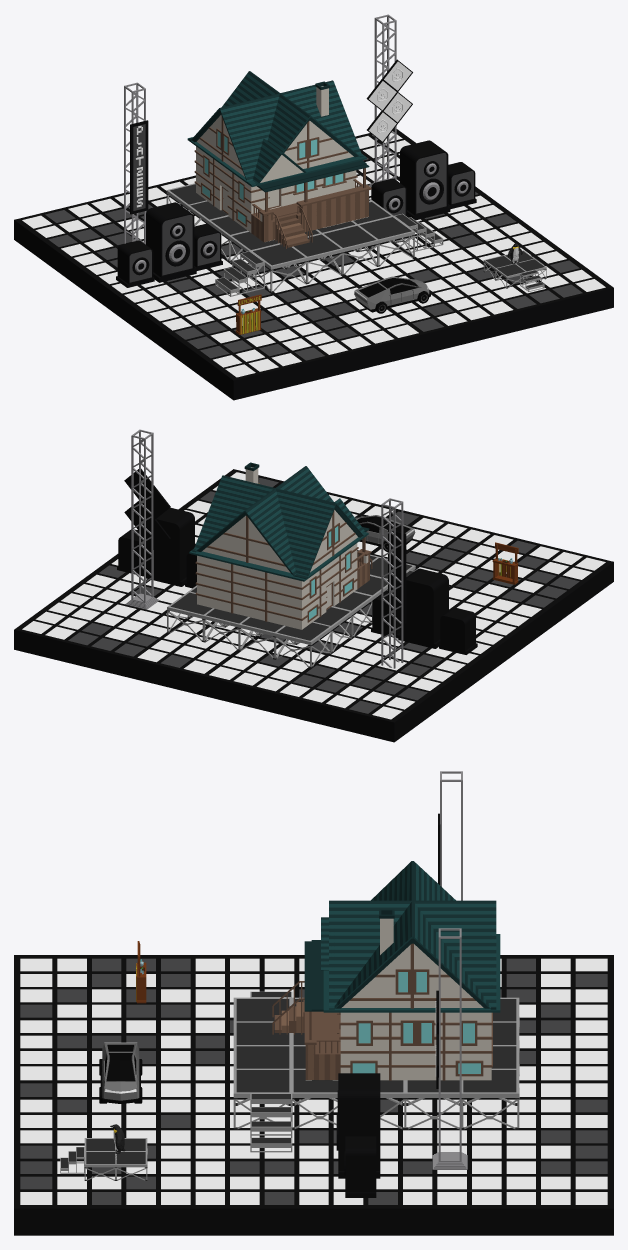
The picture shows the model from 3 angles, top to bottom: view 1: azimuth 30°, elevation 25°; view 2: azimuth 150°, elevation 25°; view 3: azimuth 270°, elevation 25°; orthographic projection. The views are drawn at different scales.
Visible parts, largest first — view 1: Cube.008, Cube.793, VEHICLES_CYBERTRUCK, OBJRANDOM_LEMONADE_STAND; view 2: Cube.008, Cube.793, VEHICLES_CYBERTRUCK, OBJRANDOM_LEMONADE_STAND; view 3: Cube.008, Cube.793, VEHICLES_CYBERTRUCK.
Boxes of the visible parts, x1,y1,x2,y2 form: Cube.008: (14,14,613,400); Cube.793: (187,71,371,248); VEHICLES_CYBERTRUCK: (354,276,430,313); OBJRANDOM_LEMONADE_STAND: (235,294,261,335); Cube.008: (14,429,613,742); Cube.793: (189,462,372,629); VEHICLES_CYBERTRUCK: (355,515,415,552); OBJRANDOM_LEMONADE_STAND: (492,542,518,584); Cube.008: (14,771,613,1235); Cube.793: (272,861,500,1080); VEHICLES_CYBERTRUCK: (99,1042,142,1103).
Size of the model in its own units: 4000 by 1945 by 4000.
33 materials, 2 textured.
